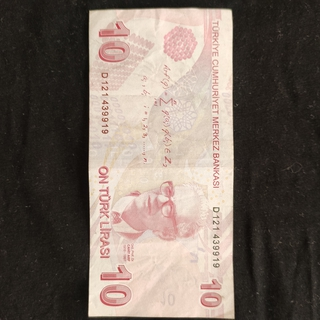10TLBack: (87, 6, 236, 319)
